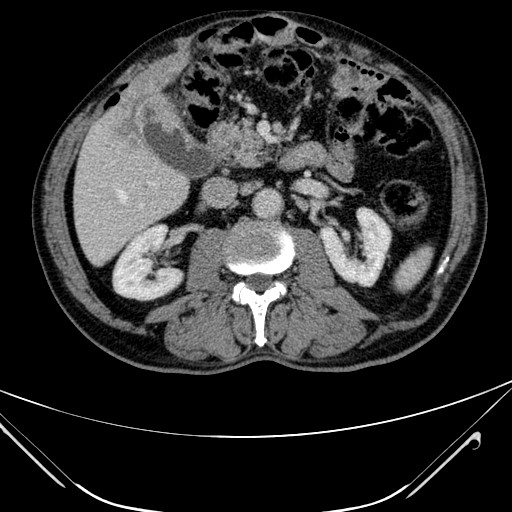vesicula: (140, 119, 216, 180)
